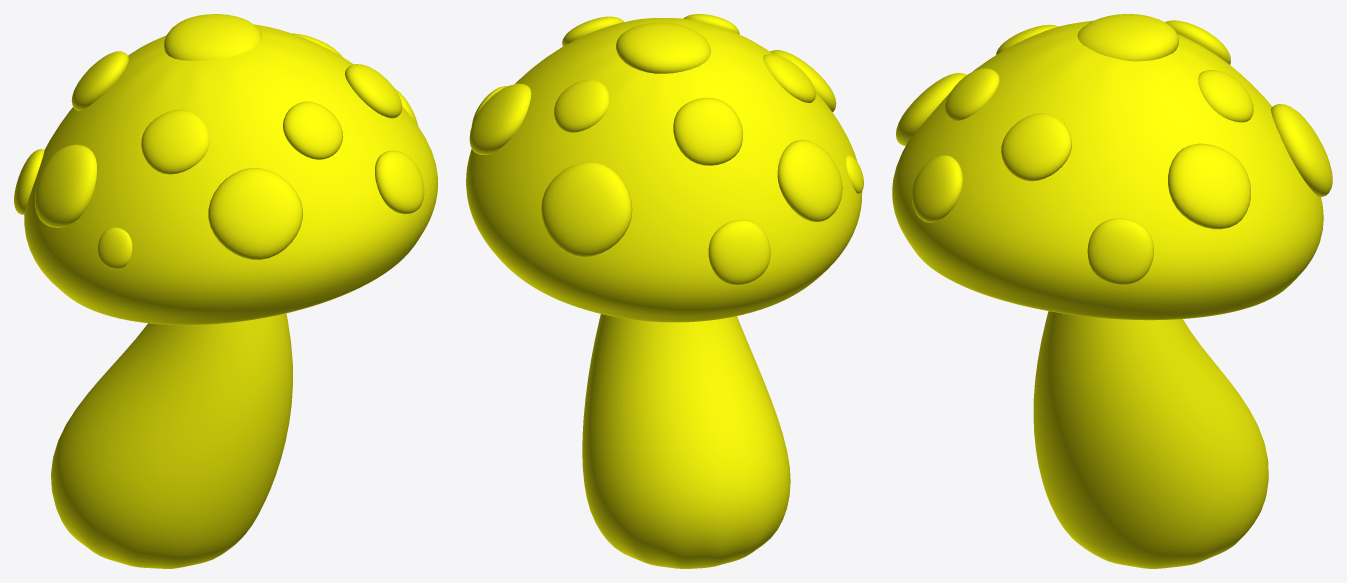
File: mush2.glb
3 views of the same model, side by side, from view 1: azimuth 30°, elevation 25°; view 2: azimuth 150°, elevation 25°; view 3: azimuth 270°, elevation 25° (orthographic). The views are drawn at different scales.
Visible parts, largest first — view 1: Circle.003, Circle.002, Cube.018, Cube.017, Cube.015, Cube.021, Cube.024, Cube.022, Cube.019, Cube.023, Cube.028, Cube.027; view 2: Circle.003, Circle.002, Cube.016, Cube.017, Cube.015, Cube.023, Cube.027, Cube.020, Cube.025, Cube.021, Cube.018, Cube.019; view 3: Circle.003, Circle.002, Cube.020, Cube.015, Cube.019, Cube.026, Cube.016, Cube.022, Cube.025, Cube.024, Cube.018, Cube.023.
Boxes of the visible parts, x1,y1,x2,y2 form: Circle.003: [24, 24, 437, 325]; Circle.002: [51, 313, 292, 568]; Cube.018: [208, 168, 302, 259]; Cube.017: [35, 144, 96, 227]; Cube.015: [164, 14, 261, 60]; Cube.021: [141, 109, 209, 174]; Cube.024: [283, 101, 343, 159]; Cube.022: [375, 150, 424, 214]; Cube.019: [345, 64, 402, 118]; Cube.023: [71, 51, 128, 110]; Cube.028: [97, 227, 132, 269]; Cube.027: [14, 149, 44, 214]; Circle.003: [466, 18, 862, 322]; Circle.002: [582, 314, 790, 568]; Cube.016: [541, 161, 632, 257]; Cube.017: [777, 139, 842, 222]; Cube.015: [616, 22, 710, 73]; Cube.023: [673, 97, 742, 165]; Cube.027: [708, 219, 770, 285]; Cube.020: [469, 83, 531, 154]; Cube.025: [554, 79, 609, 132]; Cube.021: [763, 54, 815, 102]; Cube.018: [770, 50, 836, 112]; Cube.019: [562, 16, 623, 46]; Circle.003: [892, 20, 1323, 320]; Circle.002: [1033, 311, 1268, 568]; Cube.020: [1168, 143, 1250, 229]; Cube.015: [1077, 14, 1178, 61]; Cube.019: [1001, 113, 1071, 181]; Cube.026: [1087, 218, 1153, 284]; Cube.016: [1271, 104, 1332, 196]; Cube.022: [912, 155, 962, 222]; Cube.025: [1198, 70, 1253, 122]; Cube.024: [945, 68, 999, 120]; Cube.018: [896, 73, 966, 145]; Cube.023: [1165, 20, 1230, 64].
Size of the model in its own units: 2.2 by 2.99 by 2.18.
Materials: 1 (1 with a texture image).
